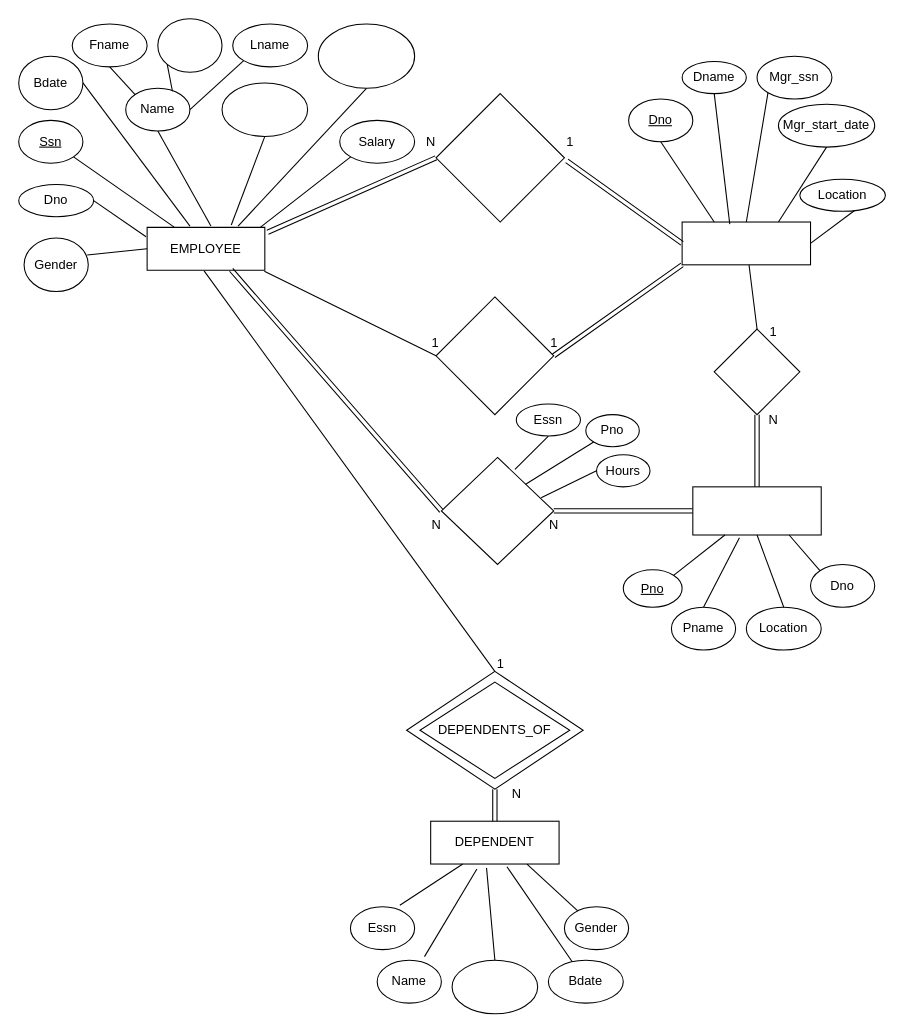
Some shapes in this 904 by 1033 pixel diagram are drawn without their labels. Each missing label, with the box of its shape:
Address: (221, 82, 308, 136)
CONTROLS: (713, 328, 800, 415)
DEPARTMENT: (681, 221, 811, 265)
MANAGES: (435, 296, 554, 415)
Minit: (157, 18, 222, 72)
PROJECT: (692, 486, 821, 535)
Relationship: (451, 959, 538, 1014)
Super_ssn: (317, 23, 415, 88)
WORKS_FOR: (435, 93, 564, 222)
WORKS_ON: (440, 456, 554, 564)
